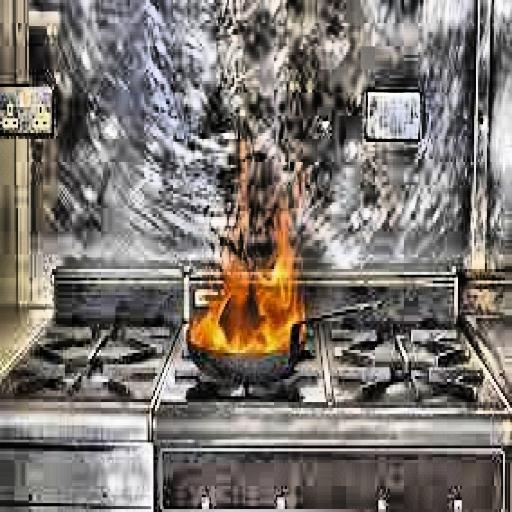fire: (180, 156, 308, 362)
